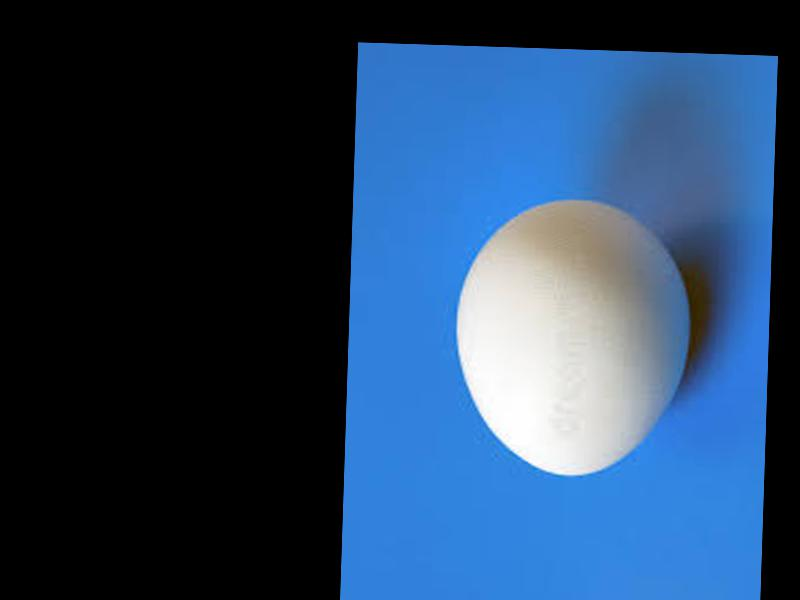Eggs: (452, 194, 695, 482)
